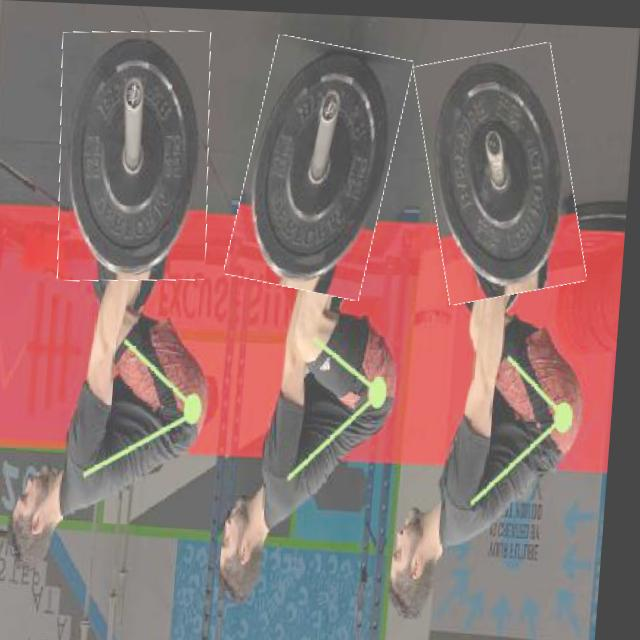barbell: (415, 40, 592, 300), (237, 36, 408, 295), (53, 27, 221, 283)
